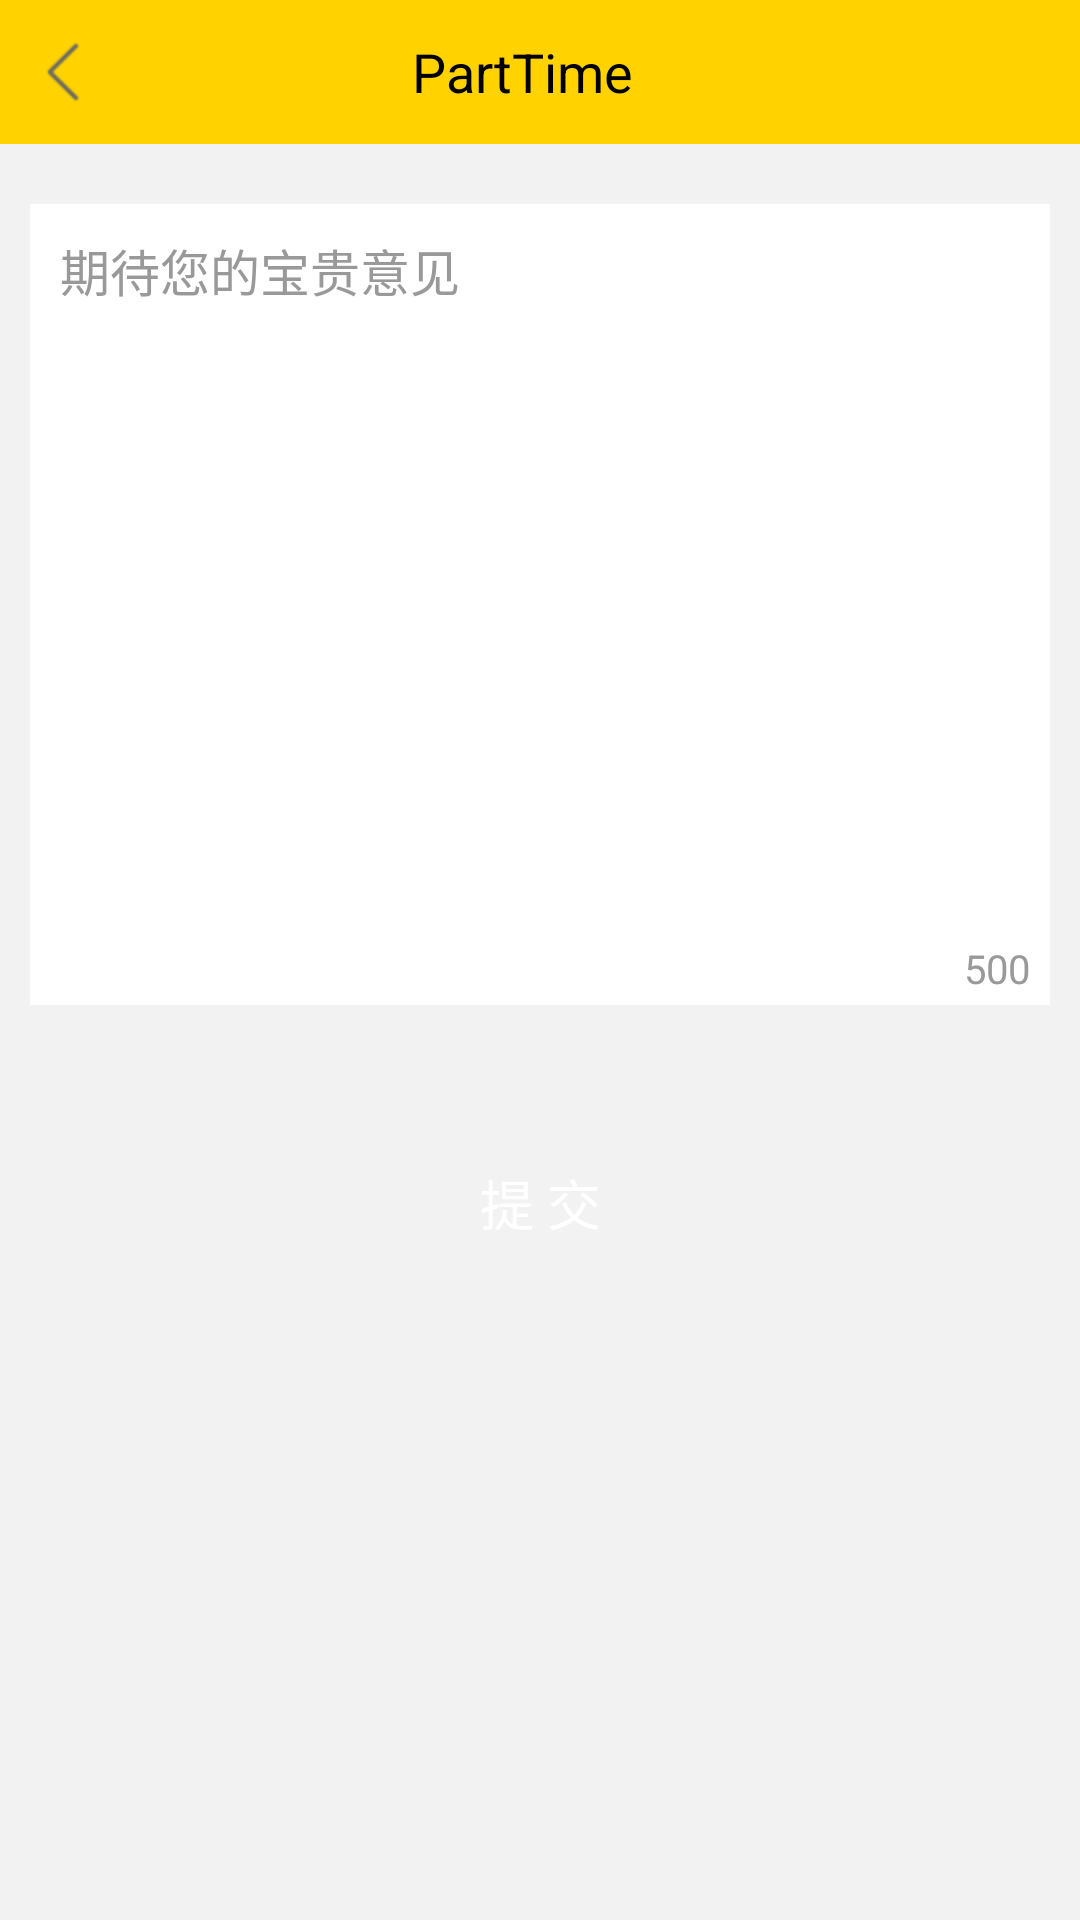

Icon click points for this 1080px x 1920px phone screenshot, format (x=x, y=y):
back: (x=63, y=72)
